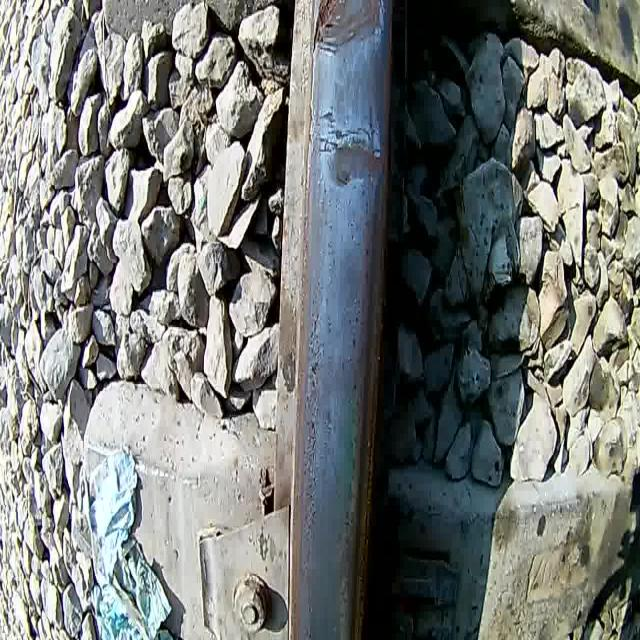Squats: (309, 0, 387, 69), (327, 141, 388, 191)
